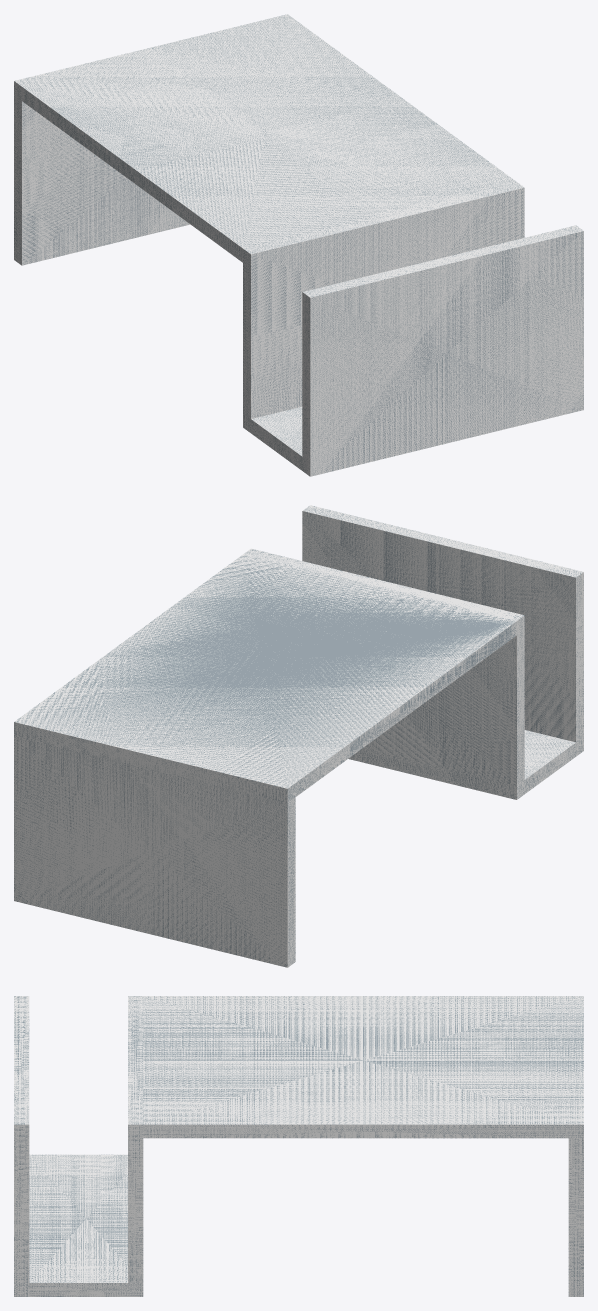
Rendered from sam.dae.
3 views of the same model, one above another, from view 1: azimuth 30°, elevation 25°; view 2: azimuth 150°, elevation 25°; view 3: azimuth 270°, elevation 25° (orthographic). The views are drawn at different scales.
Parts seen in each view (by area): view 1: group_3, group_0, group_2, group_4, group_1; view 2: group_3, group_4, group_0, group_2, group_1; view 3: group_3, group_1, group_0, group_2, group_4.
Boxes of the visible parts, bbox=[...] form: group_3: bbox=[14, 14, 516, 262]; group_0: bbox=[302, 225, 583, 476]; group_2: bbox=[243, 182, 524, 418]; group_4: bbox=[14, 95, 190, 265]; group_1: bbox=[243, 407, 302, 470]; group_3: bbox=[14, 554, 516, 802]; group_4: bbox=[14, 736, 295, 967]; group_0: bbox=[302, 505, 583, 756]; group_2: bbox=[243, 548, 524, 785]; group_1: bbox=[348, 730, 575, 799]; group_3: bbox=[143, 996, 583, 1138]; group_1: bbox=[29, 1154, 143, 1296]; group_0: bbox=[14, 996, 29, 1296]; group_2: bbox=[128, 996, 143, 1282]; group_4: bbox=[568, 1138, 583, 1296].
Size of the model in its own units: 31.5 by 59.06 by 19.69.
